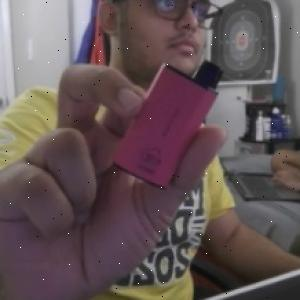Blume-E-Ciggirate: (111, 59, 223, 192)
